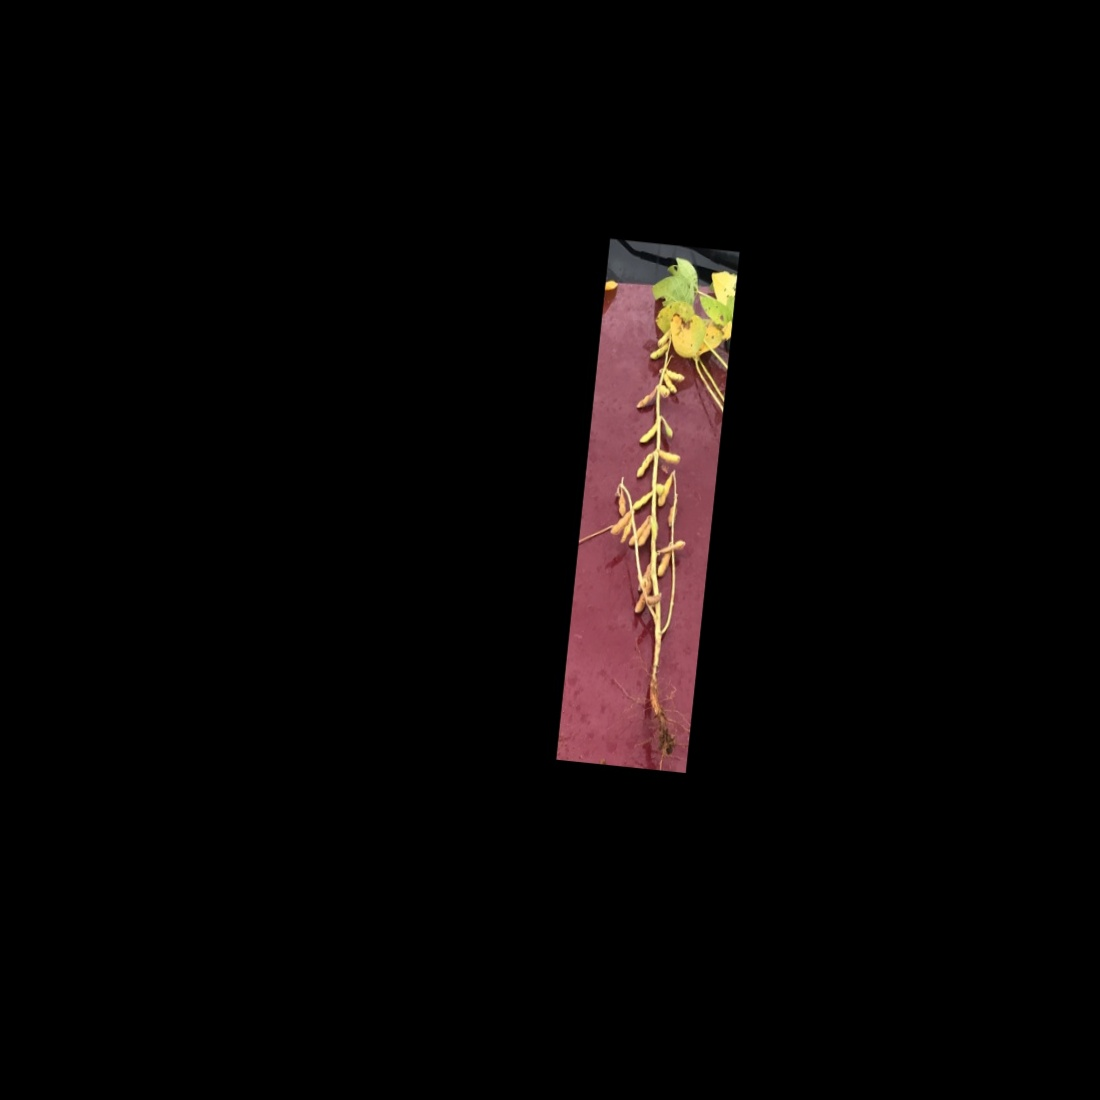pod: (631, 447, 656, 483), (636, 415, 659, 447), (608, 506, 632, 538), (627, 489, 653, 515), (646, 337, 672, 363), (657, 446, 689, 466), (657, 371, 682, 395), (635, 520, 652, 550), (662, 368, 685, 383)
soy: (564, 246, 731, 753)
